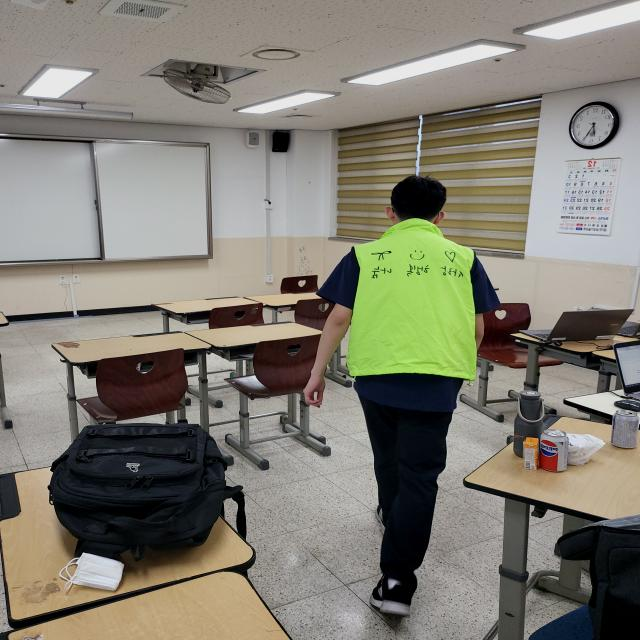weston_spy: (324, 213, 501, 411)
